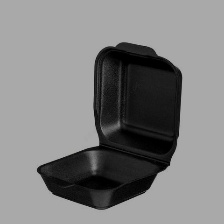foam_box: (33, 36, 188, 213)
